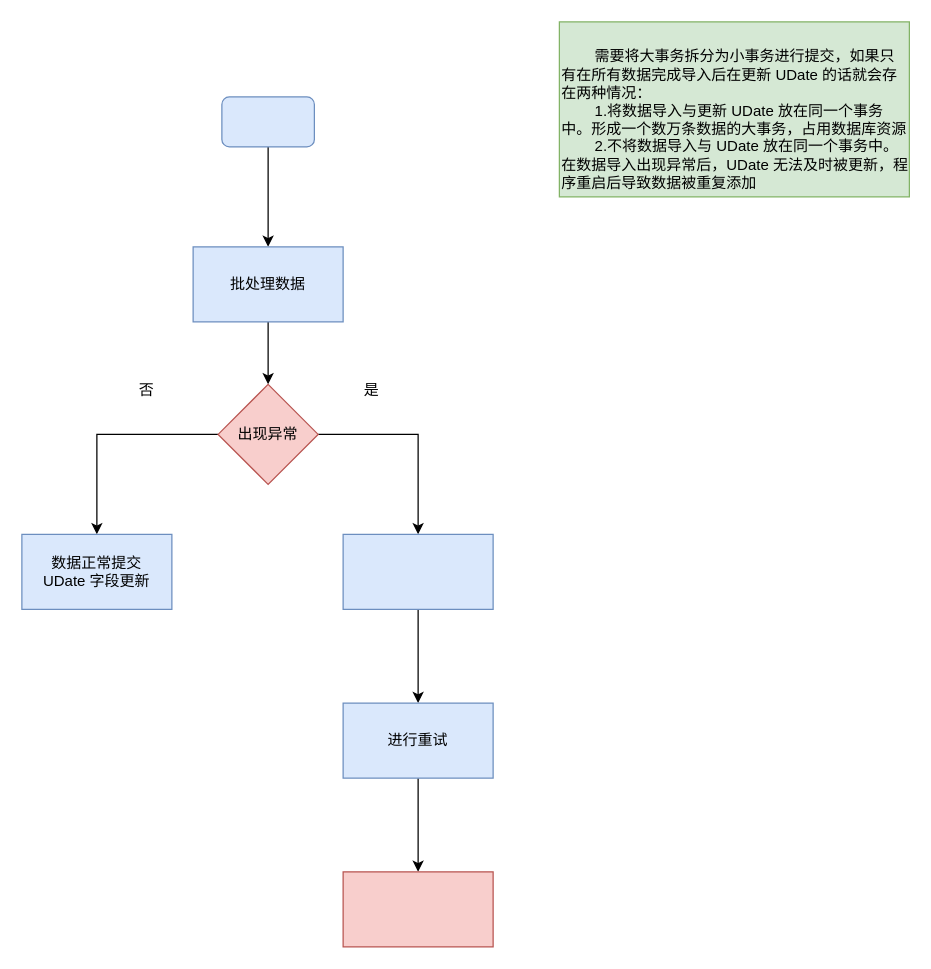
Some shapes in this 931 by 969 pixel diagram are drawn without their labels. Each missing label, with the box of its shape:
开始: (221, 96, 314, 147)
数据被重新插入 唯一键约束报错: (342, 871, 493, 947)
部分数据未被成功处理 UDate 字段未更新: (342, 533, 493, 609)
